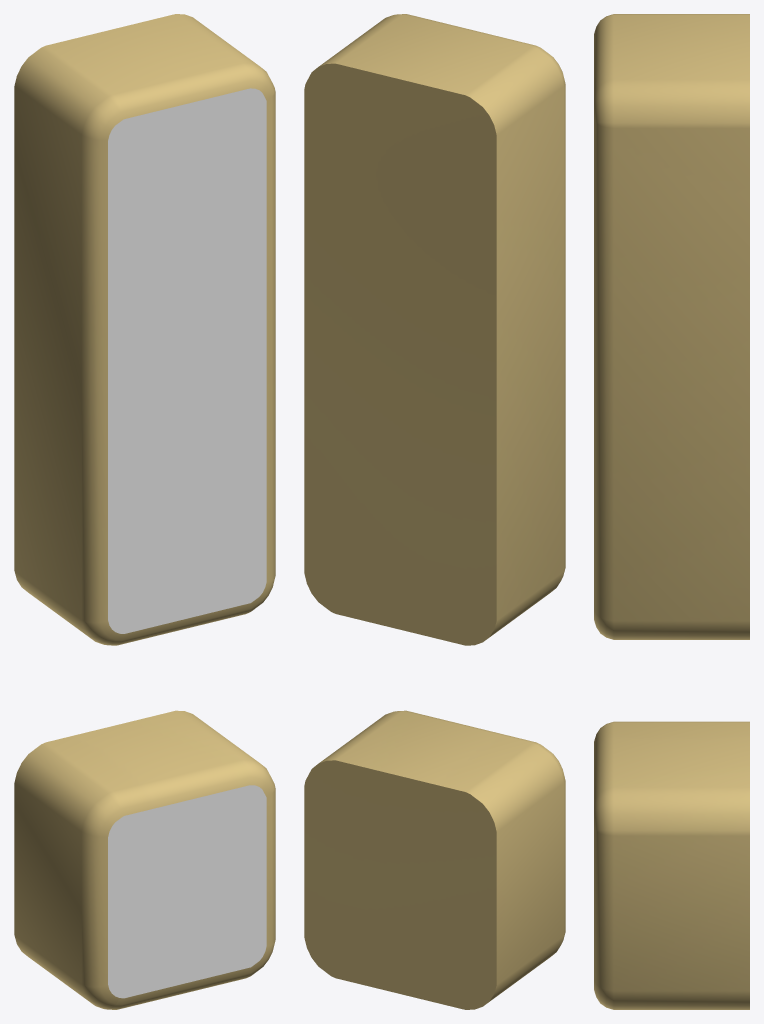
File: LettersLightUp02_S1.FBX
The picture shows the model from 3 angles, left to right: view 1: azimuth 30°, elevation 25°; view 2: azimuth 150°, elevation 25°; view 3: azimuth 270°, elevation 25°; orthographic projection.
Visible parts, largest first — view 1: LettersLightUp02_S1; view 2: LettersLightUp02_S1; view 3: LettersLightUp02_S1.
Boxes of the visible parts, box(x1,y1,x2,y2) form: LettersLightUp02_S1: box(14, 14, 275, 1009); LettersLightUp02_S1: box(304, 14, 565, 1009); LettersLightUp02_S1: box(594, 14, 749, 1009).
Size of what is drawn, in the model's own units: 0.1319 by 0.5996 by 0.0912.
